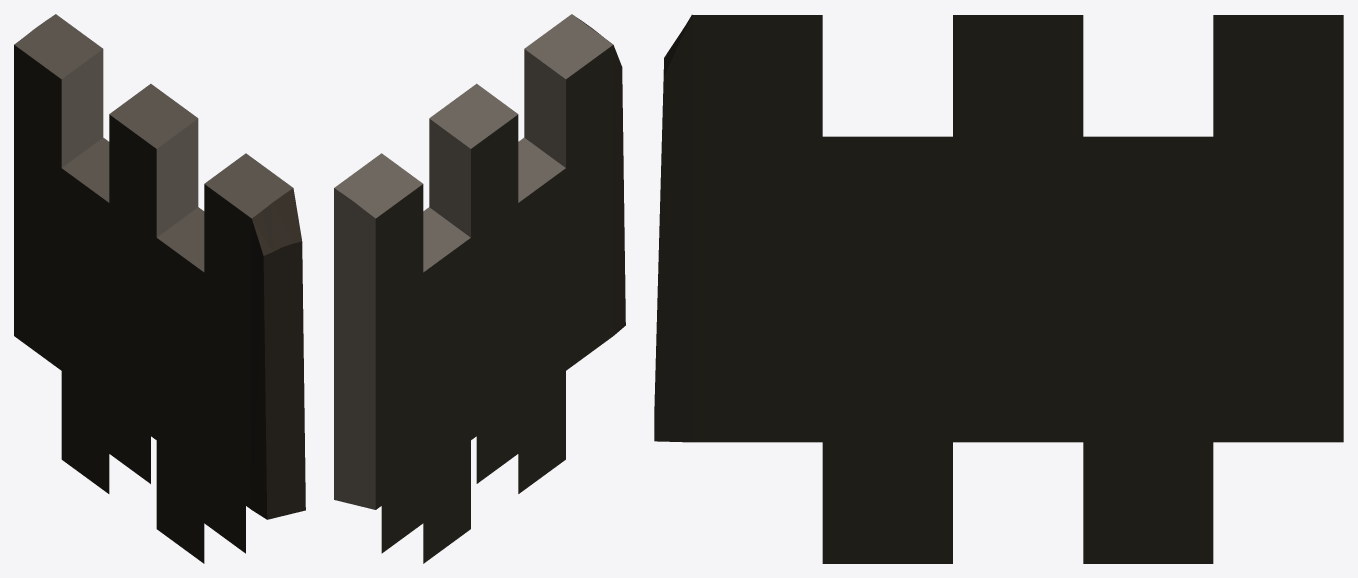
The model's file is Main Pin.fbx.
3 views of the same model, side by side, from view 1: azimuth 30°, elevation 25°; view 2: azimuth 150°, elevation 25°; view 3: azimuth 270°, elevation 25° (orthographic). The views are drawn at different scales.
Parts seen in each view (by area): view 1: pasted__pCylinder28; view 2: pasted__pCylinder28; view 3: pasted__pCylinder28.
Boxes of the visible parts, x1,y1,x2,y2 form: pasted__pCylinder28: (14,14,305,563); pasted__pCylinder28: (334,14,625,563); pasted__pCylinder28: (654,14,1343,563).
Bounding box in the file's own units: 0.0704 × 0.6466 × 0.7359.
Materials: 1 (1 with a texture image).
